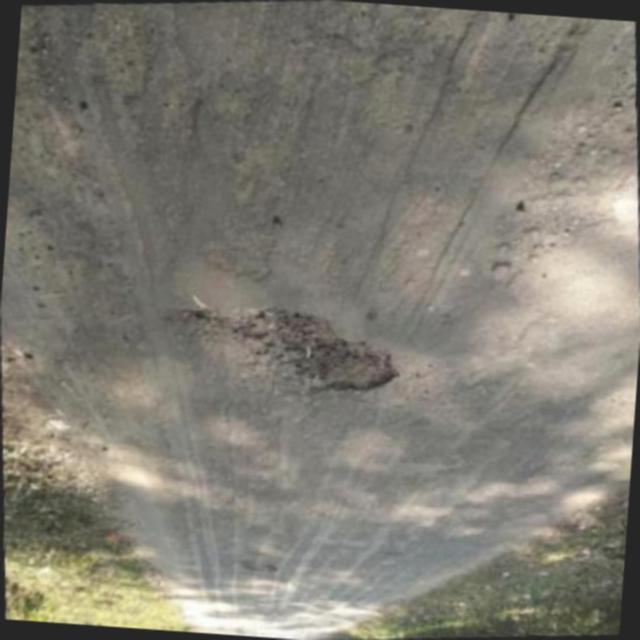Pothole: (194, 306, 397, 390)
